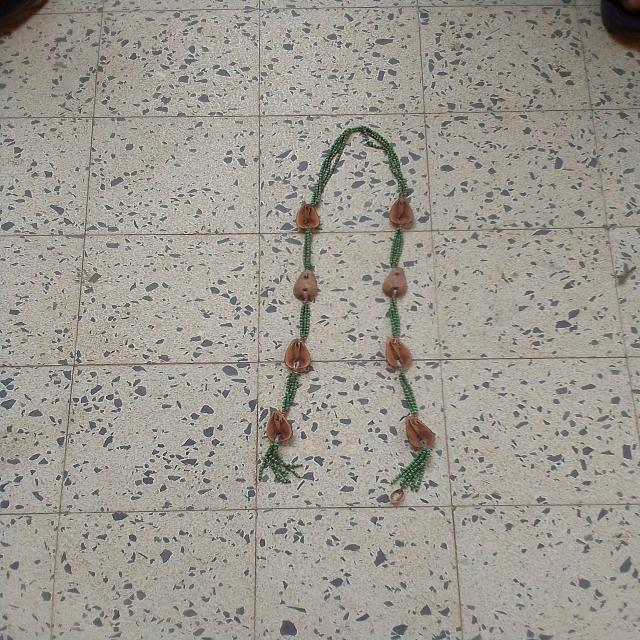facedown: (379, 265, 412, 301), (294, 268, 321, 302)
faceup: (403, 415, 439, 452), (281, 337, 313, 372), (384, 335, 415, 370), (266, 408, 294, 446), (387, 194, 416, 227), (294, 202, 322, 230)
